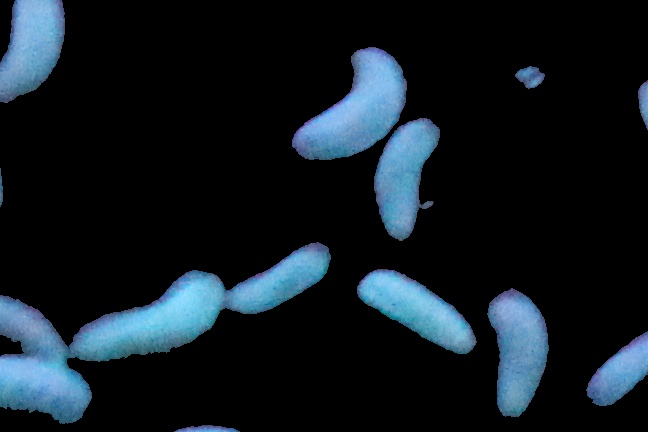larvae: (81, 259, 223, 374), (292, 45, 407, 162), (357, 244, 473, 351), (1, 1, 77, 124), (485, 286, 550, 418), (228, 232, 330, 316), (372, 117, 441, 239), (1, 356, 93, 424), (586, 321, 648, 405), (1, 294, 67, 360)
